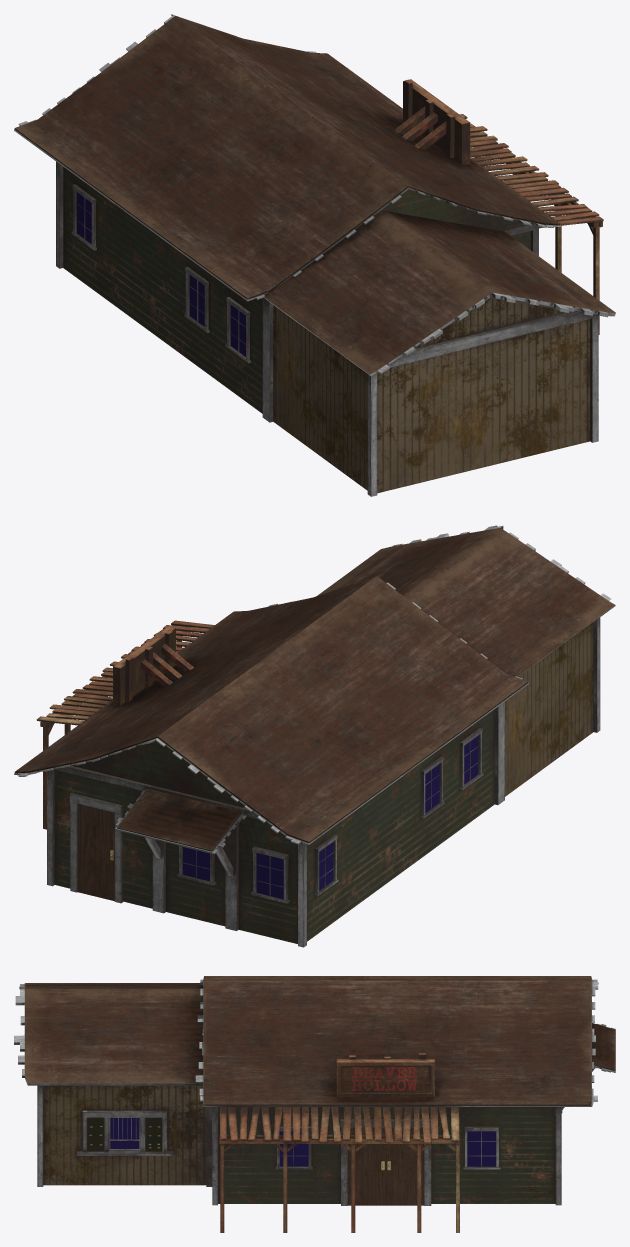
Rendered from Gare seul.fbx.
The picture shows the model from 3 angles, top to bottom: view 1: azimuth 30°, elevation 25°; view 2: azimuth 150°, elevation 25°; view 3: azimuth 270°, elevation 25°; orthographic projection. The views are drawn at different scales.
Parts seen in each view (by area): view 1: Gare; view 2: Gare; view 3: Gare.
Part boxes in pixels (x1,y1,x2,y2): Gare: (14, 14, 615, 496); Gare: (14, 525, 615, 947); Gare: (14, 976, 615, 1232).
Size of the model in its own units: 819 by 431 by 1378.
